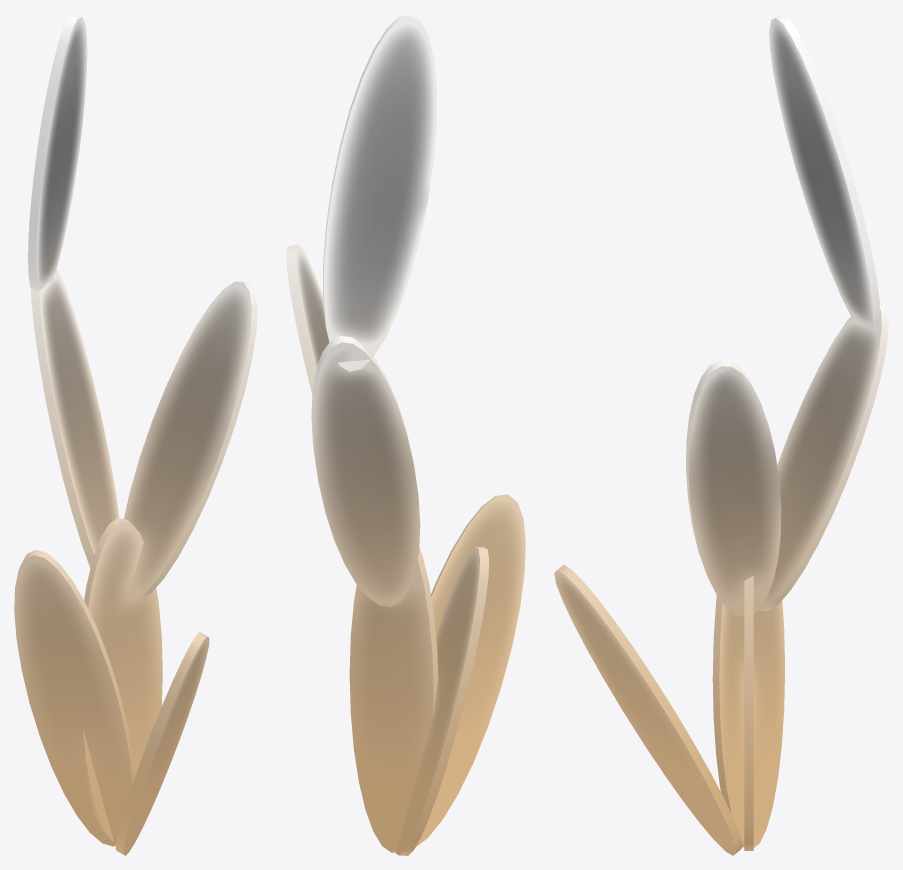
Rendered from desertfigures_sep5_opt_color4.glb.
3 renders of one model, left to right at view 1: azimuth 30°, elevation 25°; view 2: azimuth 150°, elevation 25°; view 3: azimuth 270°, elevation 25°, orthographic. The views are drawn at different scales.
Visible parts, largest first — view 1: desertfigure_2; view 2: desertfigure_2; view 3: desertfigure_2.
Boxes of the visible parts, left/top/right/bottom form: desertfigure_2: left=14, top=14, right=257, bottom=855; desertfigure_2: left=286, top=14, right=525, bottom=855; desertfigure_2: left=554, top=14, right=888, bottom=855.
Size of the model in its own units: 5.82 by 21.57 by 7.93.
1 material, 1 textured.
